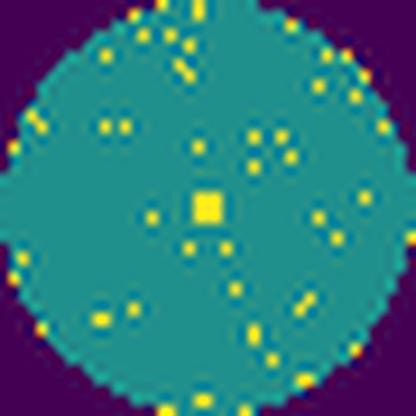Center: (187, 183, 230, 233)
